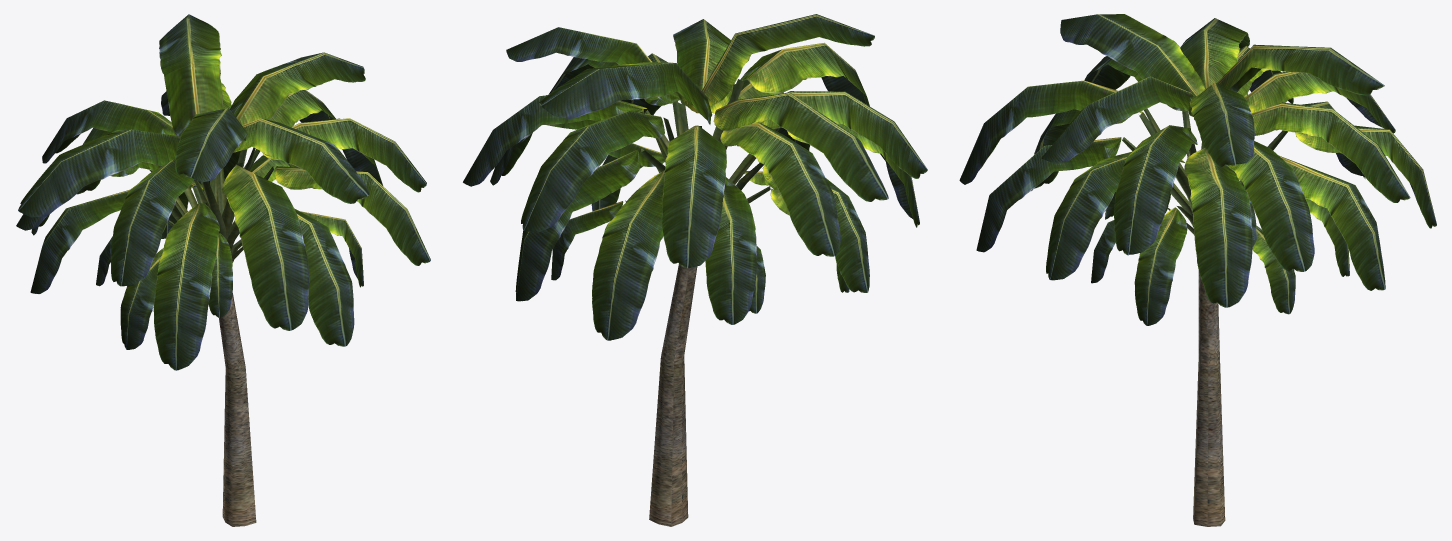
Rendered from tree_b.FBX.
3 views of the same model, side by side, from view 1: azimuth 30°, elevation 25°; view 2: azimuth 150°, elevation 25°; view 3: azimuth 270°, elevation 25° (orthographic). The views are drawn at different scales.
Parts seen in each view (by area): view 1: tree_b; view 2: tree_b; view 3: tree_b.
Boxes of the visible parts, x1,y1,x2,y2 form: tree_b: [16, 14, 430, 526]; tree_b: [463, 14, 927, 526]; tree_b: [959, 14, 1436, 526].
Bounding box in the file's own units: 17.46 × 20.58 × 18.86.
1 material, 1 textured.
